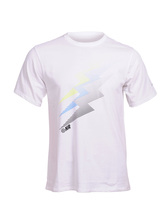clothoes: (11, 30, 157, 192)
